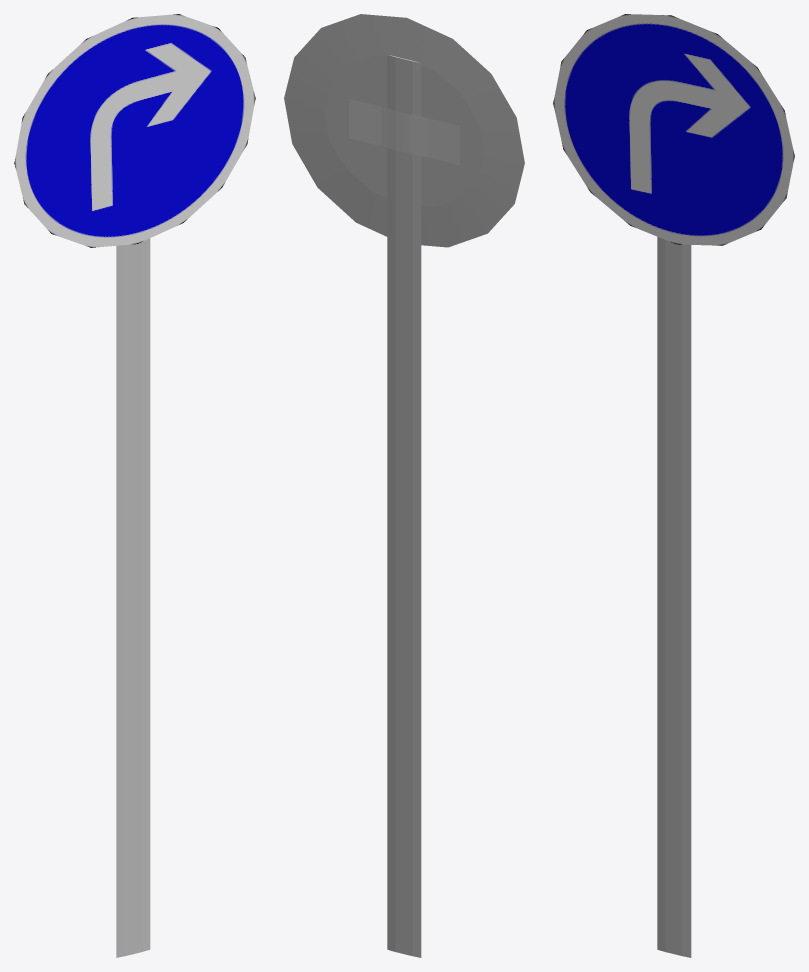
File: saga_donus.dae
3 views of the same model, side by side, from view 1: azimuth 30°, elevation 25°; view 2: azimuth 150°, elevation 25°; view 3: azimuth 330°, elevation 25° (orthographic).
Visible parts, largest first — view 1: Sign_Circle.005; view 2: Sign_Circle.005; view 3: Sign_Circle.005.
Boxes of the visible parts, x1,y1,x2,y2 form: Sign_Circle.005: [14, 14, 255, 957]; Sign_Circle.005: [284, 14, 524, 957]; Sign_Circle.005: [553, 14, 794, 957].
Bounding box in the file's own units: 0.6353 × 0.00621 × 2.36.
3 materials, 1 textured.
